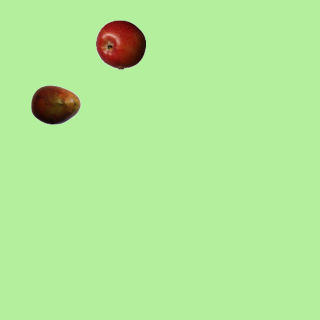Apple Braeburn: (95, 19, 145, 69)
Mango Red: (30, 79, 80, 129)
